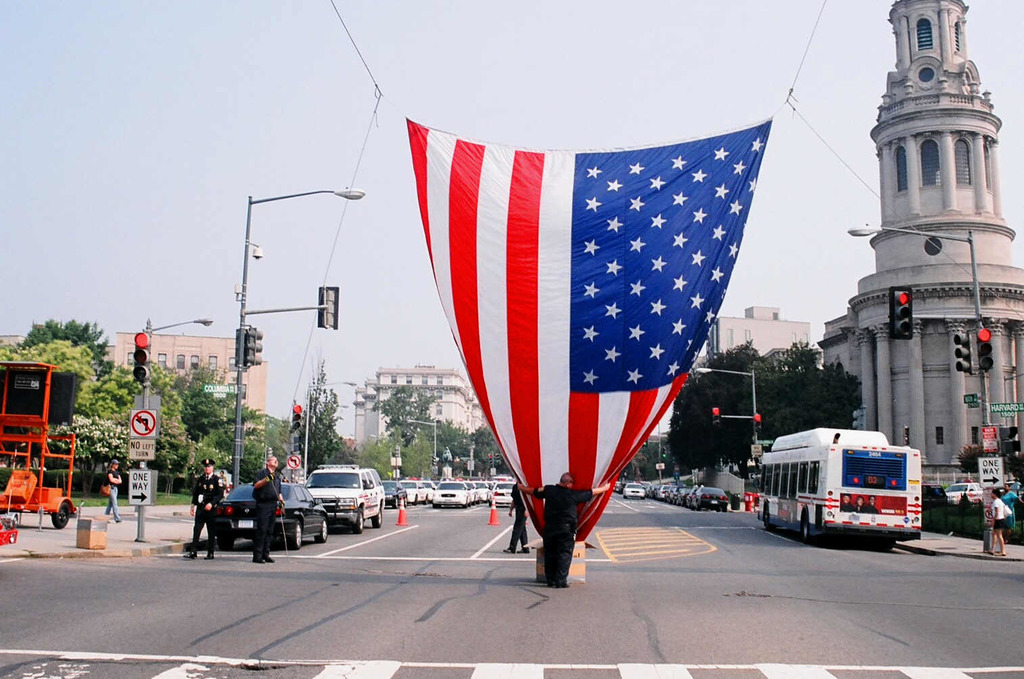Car: (206, 463, 519, 544), (614, 472, 729, 511), (946, 481, 982, 509)
